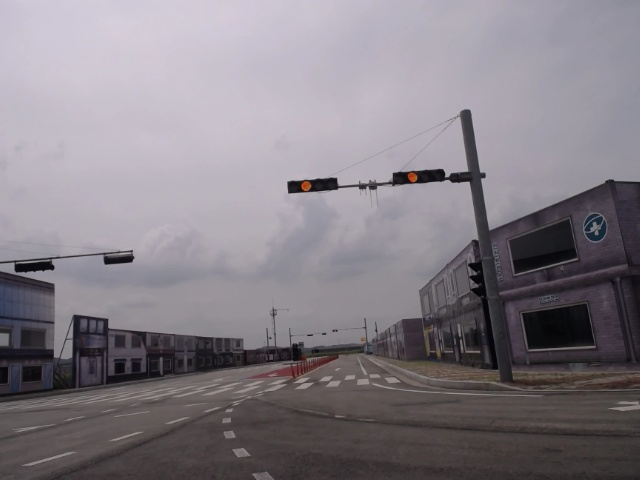orange_4: (389, 168, 450, 186), (284, 178, 340, 194)
